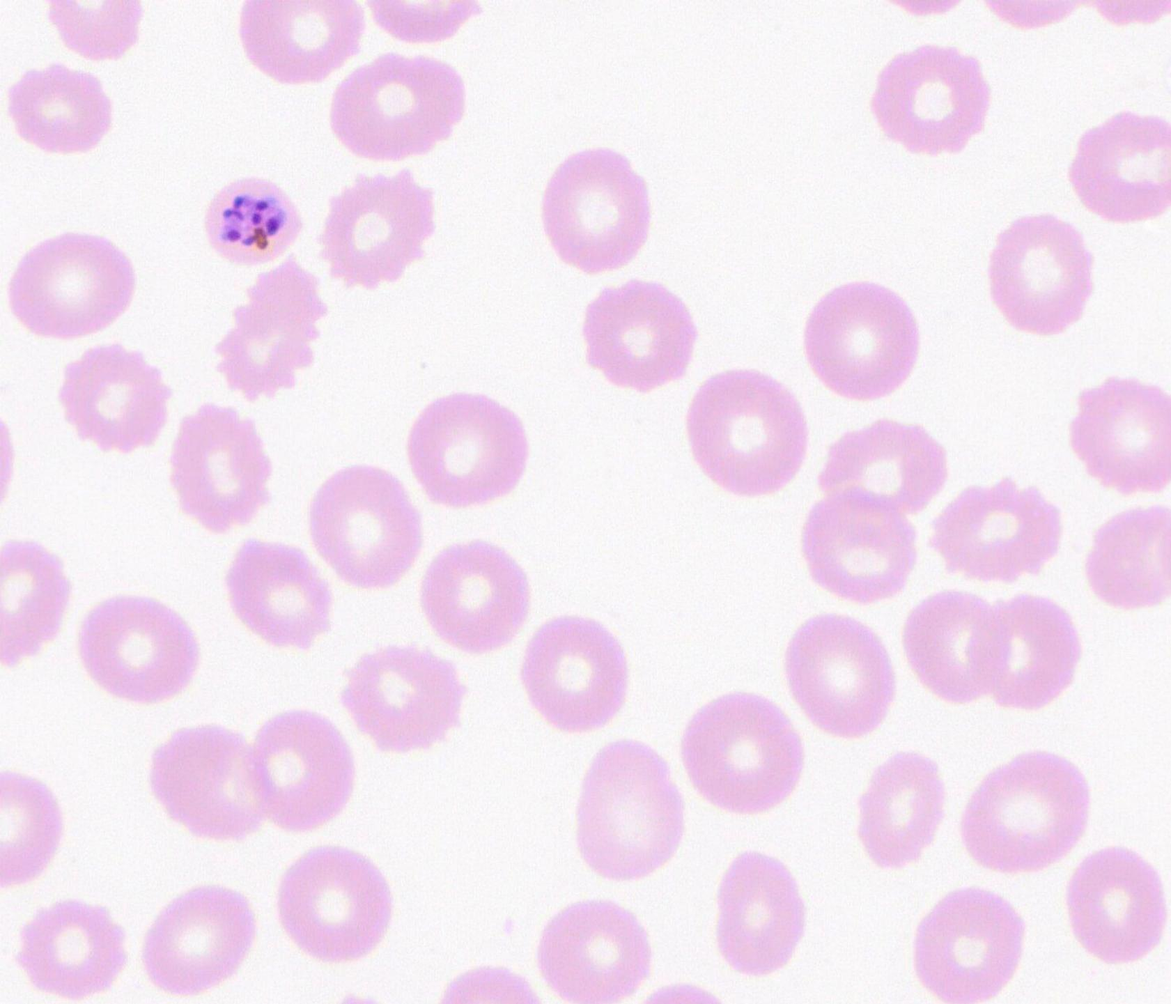Infected: (206, 177, 299, 267)
Uninfected: (909, 587, 1074, 711), (215, 261, 327, 399), (962, 750, 1087, 873), (573, 741, 681, 878), (687, 370, 807, 491), (684, 693, 801, 813), (329, 51, 465, 154), (320, 169, 438, 286), (309, 465, 422, 585), (931, 478, 1060, 583), (343, 642, 465, 753), (151, 725, 266, 842), (804, 281, 919, 397), (10, 231, 132, 339), (408, 392, 526, 503), (277, 848, 388, 965), (785, 616, 894, 735), (248, 711, 355, 832), (168, 406, 272, 530), (80, 594, 196, 705), (801, 492, 917, 603), (541, 148, 649, 267), (873, 45, 987, 154), (59, 343, 171, 453), (988, 215, 1091, 333), (818, 417, 945, 512), (914, 887, 1023, 997), (583, 281, 693, 389), (421, 541, 529, 651), (522, 616, 627, 729), (145, 886, 254, 994), (226, 541, 333, 651), (1069, 376, 1171, 491), (715, 851, 808, 975), (1063, 847, 1162, 961), (1070, 110, 1171, 221), (538, 898, 649, 998), (240, 0, 365, 84), (857, 750, 945, 867), (18, 899, 121, 998), (10, 60, 110, 157), (0, 542, 74, 661), (1086, 504, 1170, 607)
